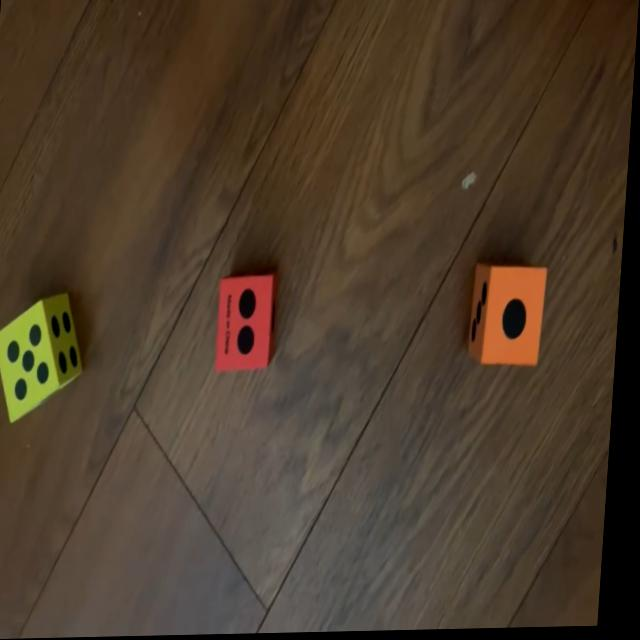red_block: (218, 276, 283, 371)
